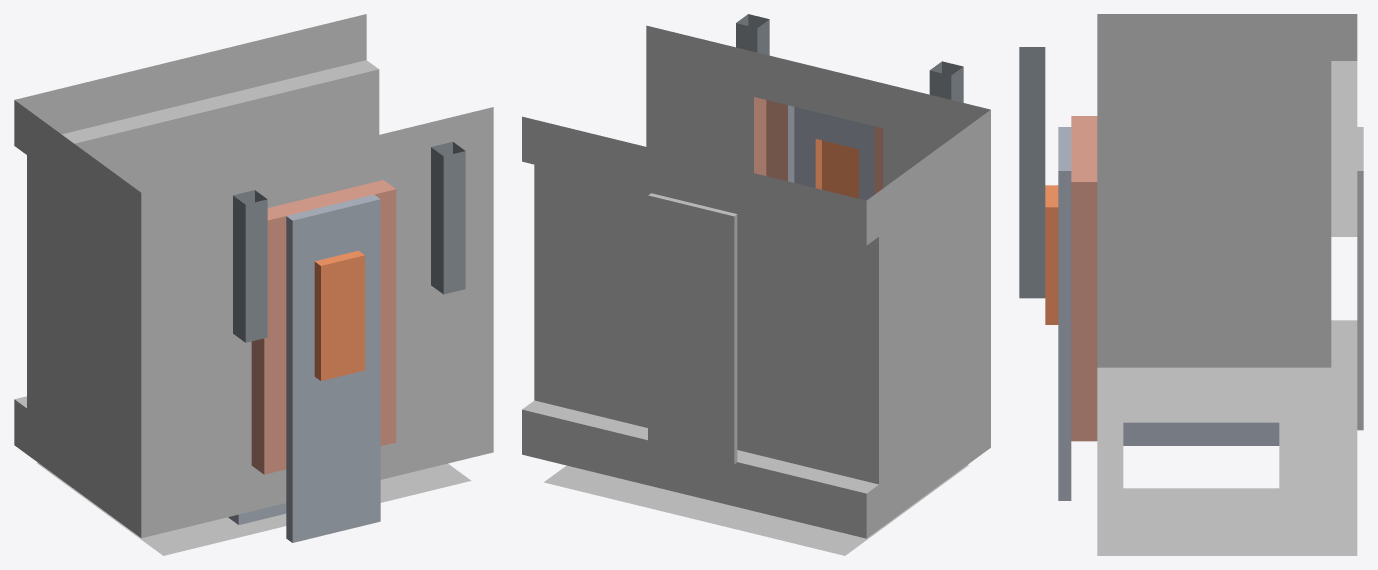
File: cell_33.obj
The picture shows the model from 3 angles, left to right: view 1: azimuth 30°, elevation 25°; view 2: azimuth 150°, elevation 25°; view 3: azimuth 270°, elevation 25°; orthographic projection. The views are drawn at different scales.
Size of the model in its own units: 1 by 1 by 0.8281.
